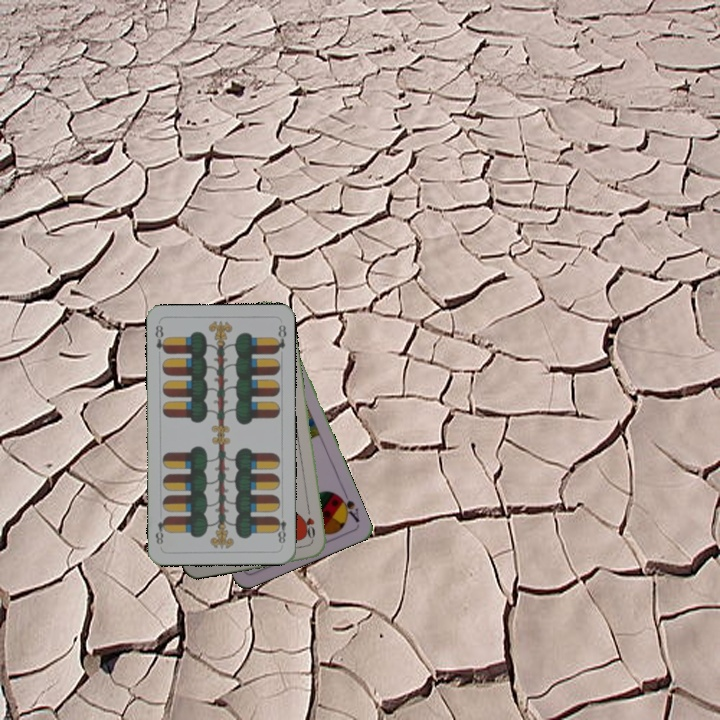E8: (151, 321, 169, 356), (272, 513, 289, 546)
HO: (301, 503, 318, 543)
SA: (333, 487, 362, 525)
